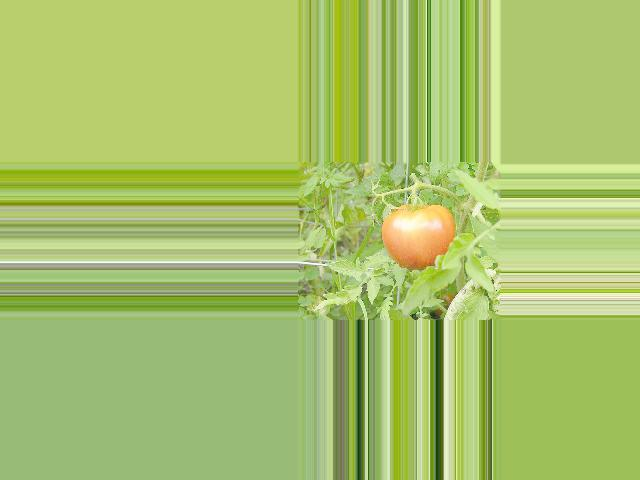tomato: (382, 203, 454, 268)
